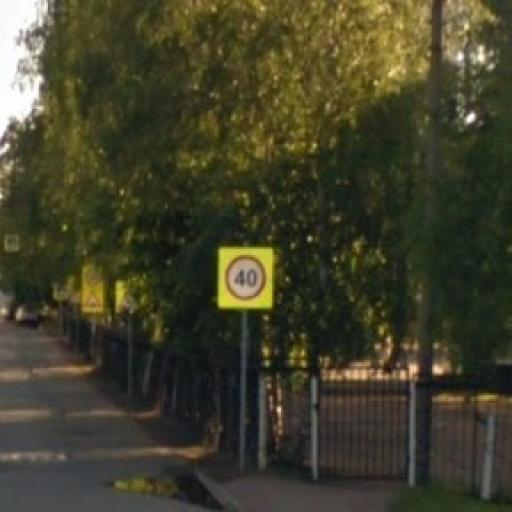traffic_sign: (225, 254, 269, 303)
